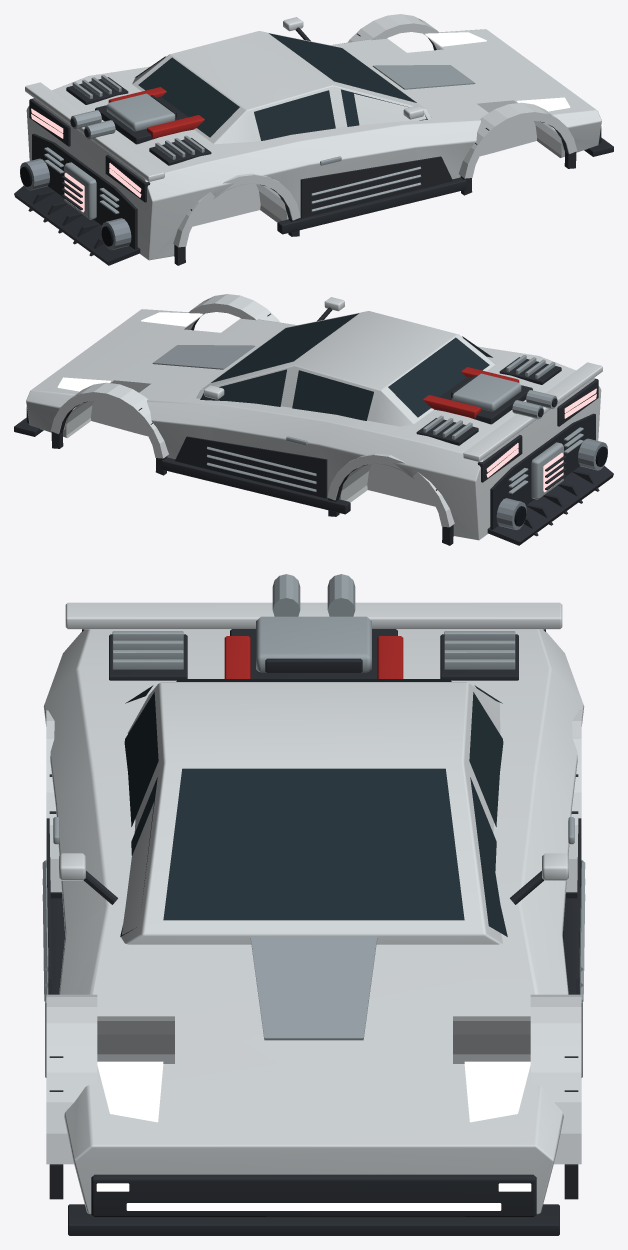
File: breakout.glb
3 renders of one model, top to bottom at view 1: azimuth 30°, elevation 25°; view 2: azimuth 150°, elevation 25°; view 3: azimuth 270°, elevation 25°, orthographic. The views are drawn at different scales.
Parts seen in each view (by area): view 1: body-paint, body-details; view 2: body-paint, body-details; view 3: body-paint, body-details.
Boxes of the visible parts, x1,y1,x2,y2 form: body-paint: (25, 14, 601, 260); body-details: (14, 19, 613, 265); body-paint: (26, 294, 602, 540); body-details: (14, 299, 613, 545); body-paint: (43, 602, 584, 1214); body-details: (42, 574, 585, 1235).
Bounding box in the file's own units: 1.49 × 0.341 × 0.71.
